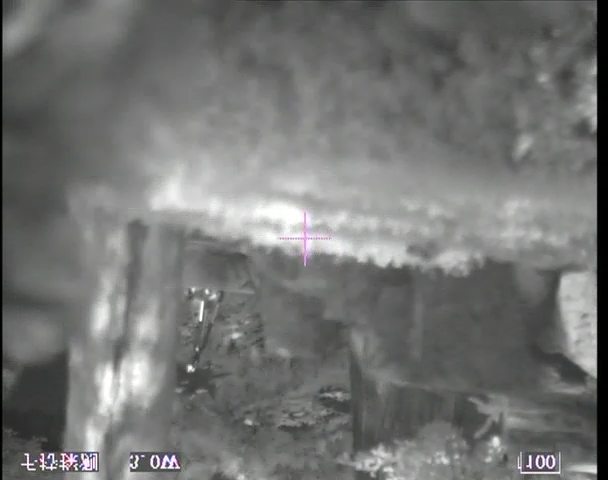my: (185, 364, 194, 374)
